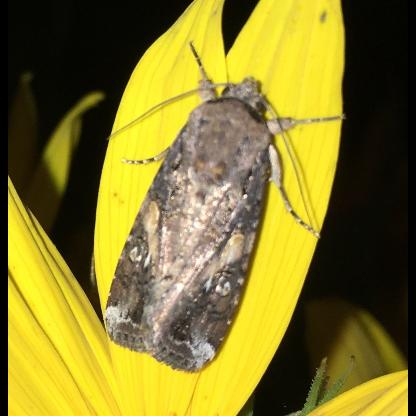Fall Armyworm Moth: (101, 38, 350, 378)
